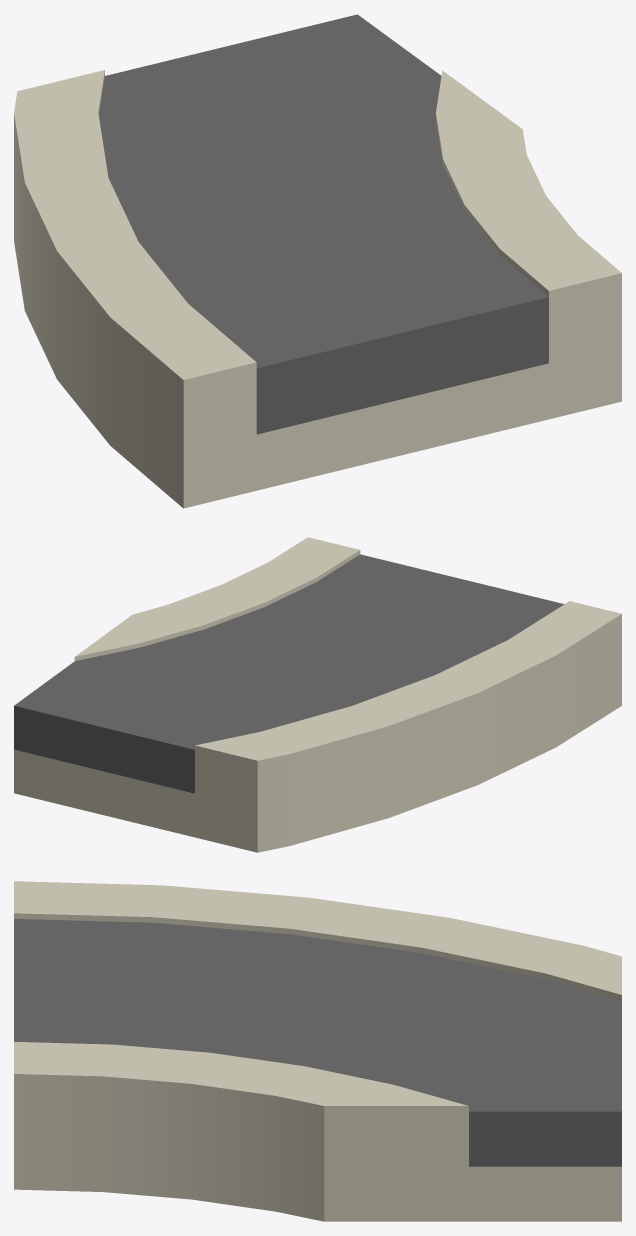
Rendered from tile215.dae.
The picture shows the model from 3 angles, top to bottom: view 1: azimuth 30°, elevation 25°; view 2: azimuth 150°, elevation 25°; view 3: azimuth 270°, elevation 25°; orthographic projection. The views are drawn at different scales.
Visible parts, largest first — view 1: tile215; view 2: tile215; view 3: tile215.
Part boxes in pixels (bbox=[...]): tile215: bbox=[14, 14, 621, 508]; tile215: bbox=[14, 537, 621, 852]; tile215: bbox=[14, 881, 621, 1221].
Size of the model in its own units: 0.875 by 0.21 by 1.
